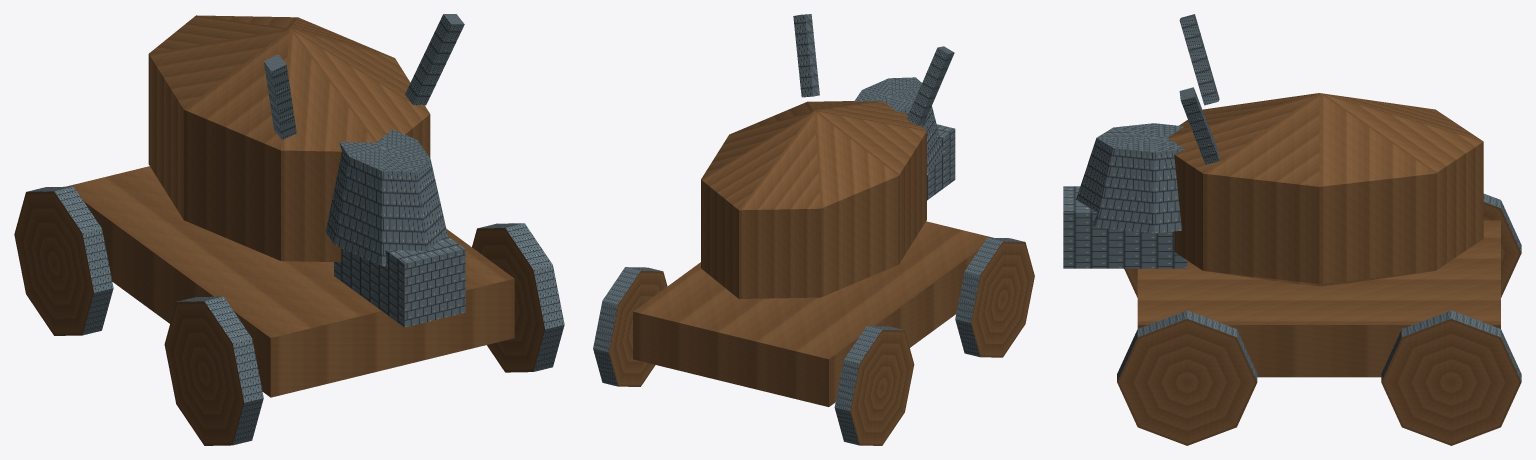
The model's file is unit-WOODEN_BEAST-lod1.glb.
The picture shows the model from 3 angles, left to right: view 1: azimuth 30°, elevation 25°; view 2: azimuth 150°, elevation 25°; view 3: azimuth 270°, elevation 25°; orthographic projection. The views are drawn at different scales.
Size of the model in its own units: 0.394 by 0.435 by 0.555.
1 material, 1 textured.
